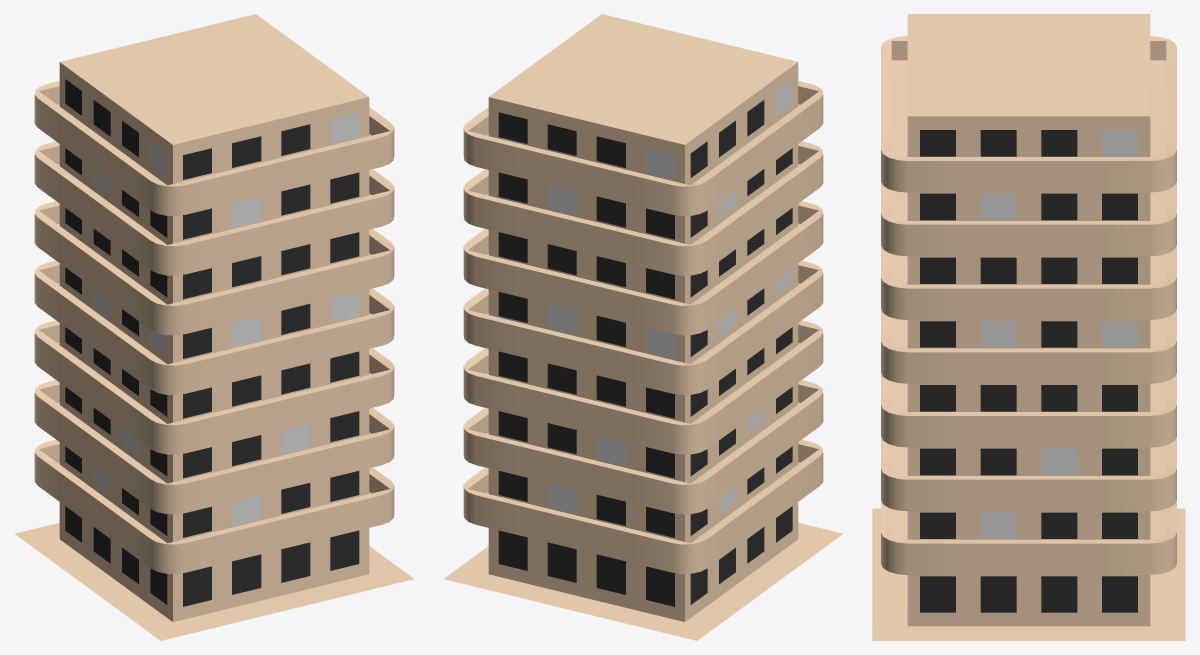
File: BatimentSolarpunk01.fbx
3 renders of one model, left to right at view 1: azimuth 30°, elevation 25°; view 2: azimuth 150°, elevation 25°; view 3: azimuth 270°, elevation 25°, orthographic. The views are drawn at different scales.
Parts seen in each view (by area): view 1: BatimentSolarpunk2; view 2: BatimentSolarpunk2; view 3: BatimentSolarpunk2.
Boxes of the visible parts, x1=… form: BatimentSolarpunk2: x1=14, y1=14, x2=413, y2=640; BatimentSolarpunk2: x1=444, y1=14, x2=843, y2=640; BatimentSolarpunk2: x1=872, y1=14, x2=1185, y2=640.
Size of the model in its own units: 1000 by 1797 by 1000.
